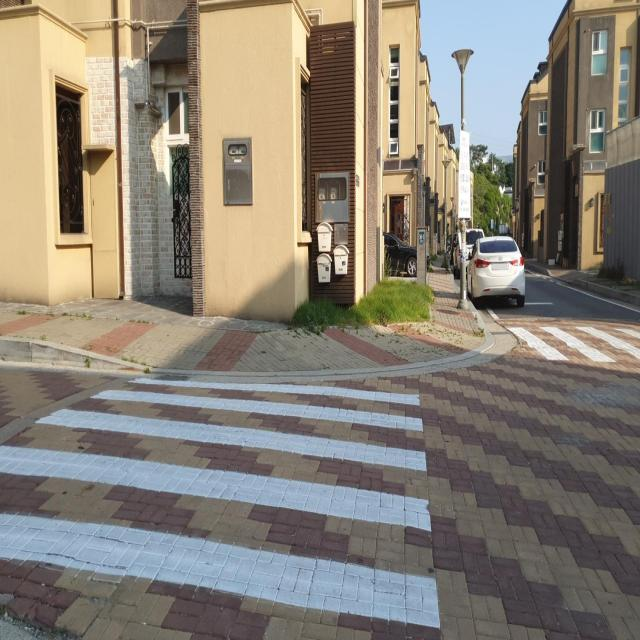횡단보도: (0, 372, 444, 634), (506, 326, 640, 371)
